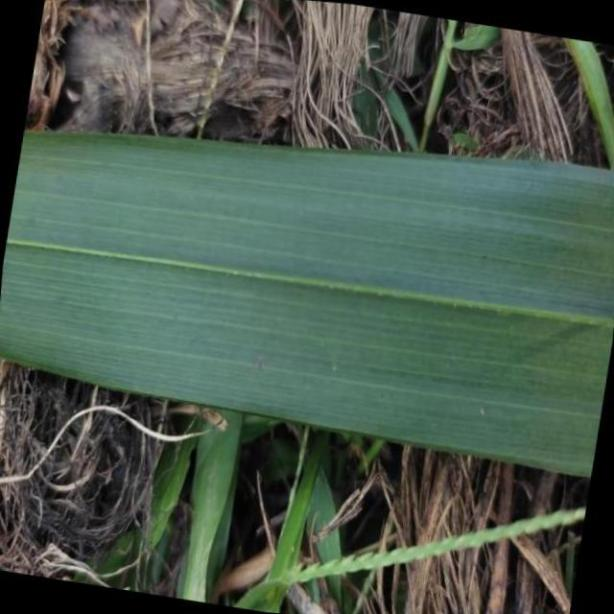Healthy: (0, 127, 601, 480)
